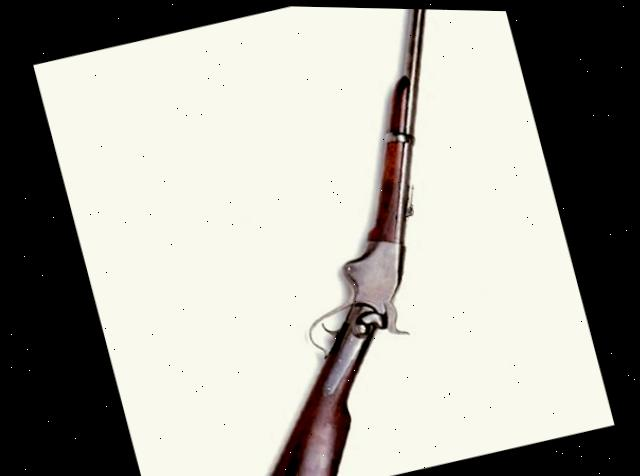rifle: (100, 2, 581, 476)
